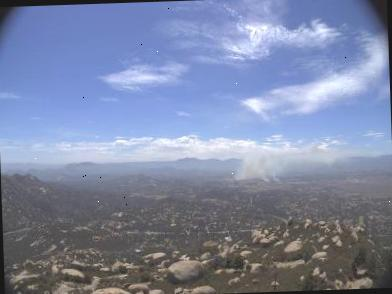smoke: (232, 143, 332, 181)
